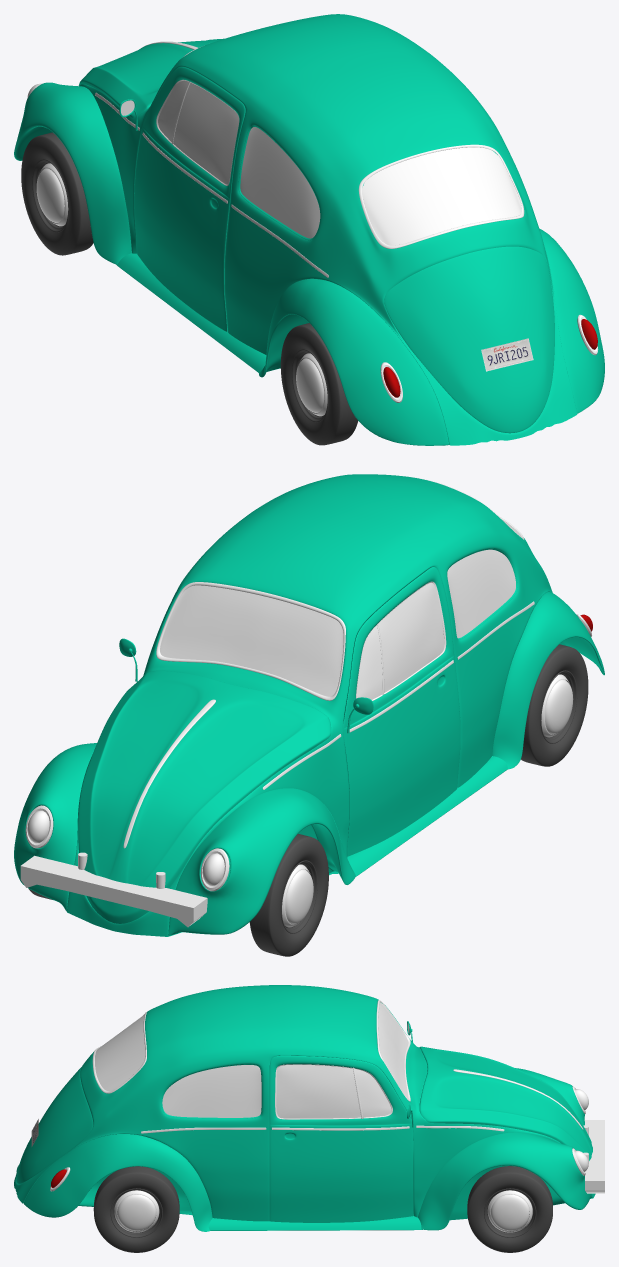
File: Volkswagen_Beetle.fbx
3 views of the same model, one above another, from view 1: azimuth 30°, elevation 25°; view 2: azimuth 150°, elevation 25°; view 3: azimuth 270°, elevation 25° (orthographic). The views are drawn at different scales.
Visible parts, largest first — view 1: body, Details_02, WheelF_Left, WheelR_Left, lisence; view 2: body, Details_02, WheelF_Left, WheelR_Left, pCube2; view 3: body, Details_02, WheelR_Right, WheelF_Right, pCube2.
Part boxes in pixels (<box>): body: <box>14,14,604,445</box>; Details_02: <box>95,41,524,277</box>; WheelF_Left: <box>21,132,93,255</box>; WheelR_Left: <box>280,323,357,445</box>; lisence: <box>481,338,533,371</box>; body: <box>14,474,604,936</box>; Details_02: <box>119,477,534,848</box>; WheelF_Left: <box>249,834,328,956</box>; WheelR_Left: <box>521,644,588,766</box>; pCube2: <box>20,855,207,927</box>; body: <box>14,985,595,1231</box>; Details_02: <box>92,1000,583,1133</box>; WheelR_Right: <box>93,1166,179,1252</box>; WheelF_Right: <box>467,1166,552,1252</box>; pCube2: <box>585,1120,604,1193</box>.
Size of the model in its own units: 11.85 by 12.52 by 32.41.
Materials: 7 (1 with a texture image).
